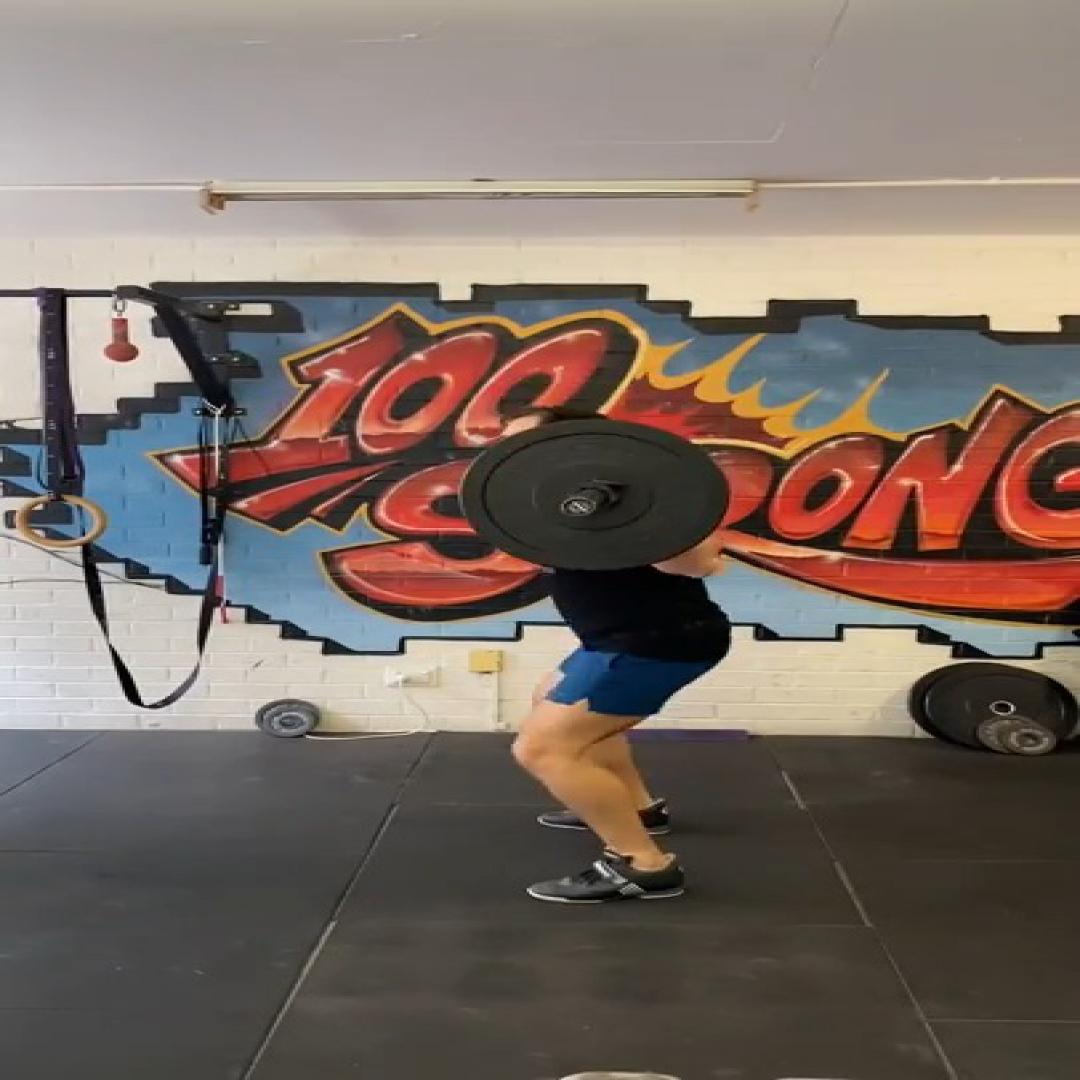Bar: (556, 495, 601, 519)
Barbell: (457, 418, 729, 572)
